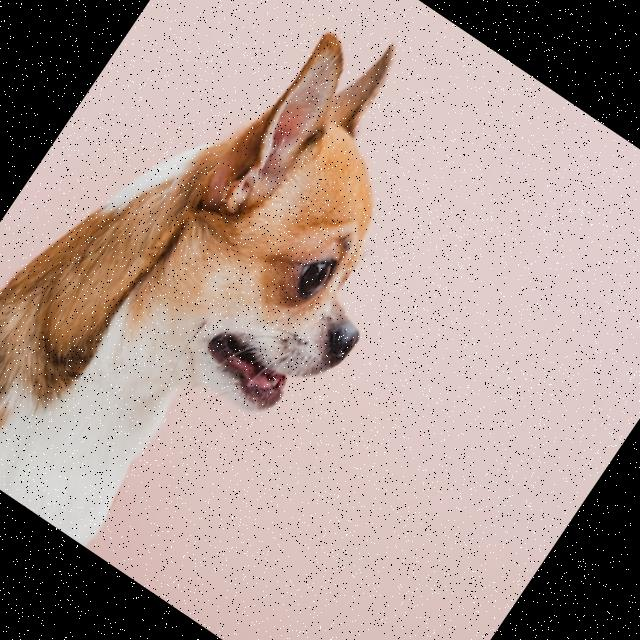Dog: (0, 0, 508, 609)
